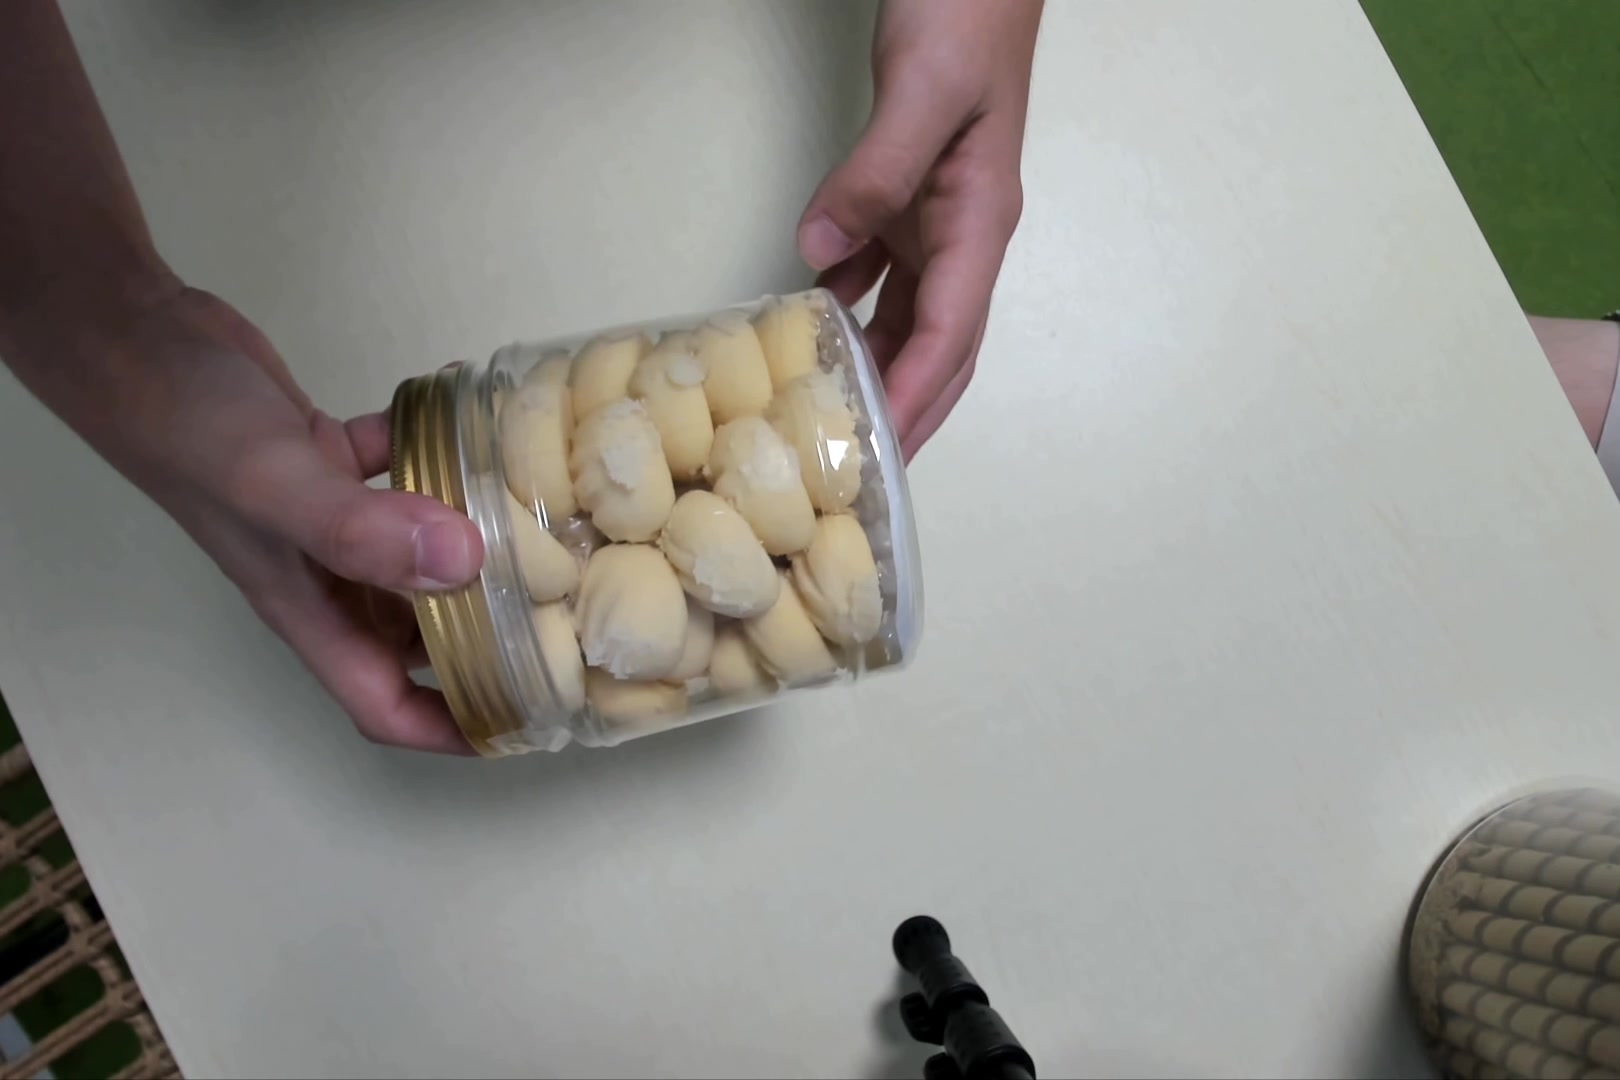BiscuitsCrackersCookies_200-299g_Halal_NonHealthy: (391, 284, 929, 752)
